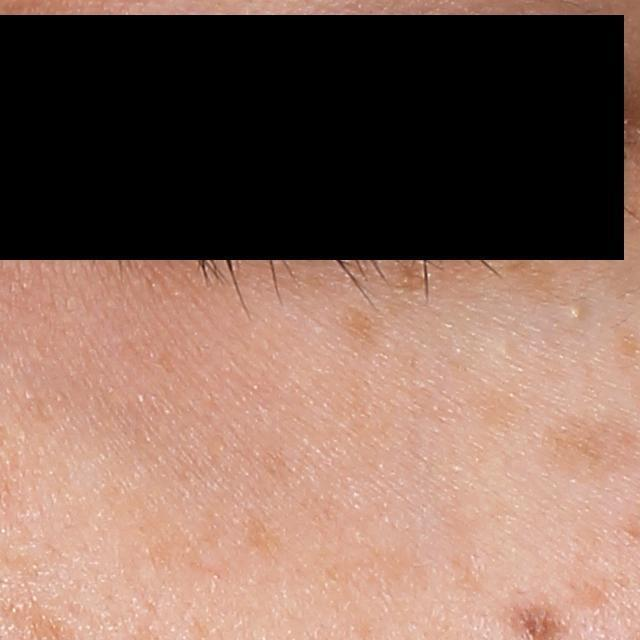comedo: (558, 302, 588, 329)
melasma: (342, 296, 383, 356)
